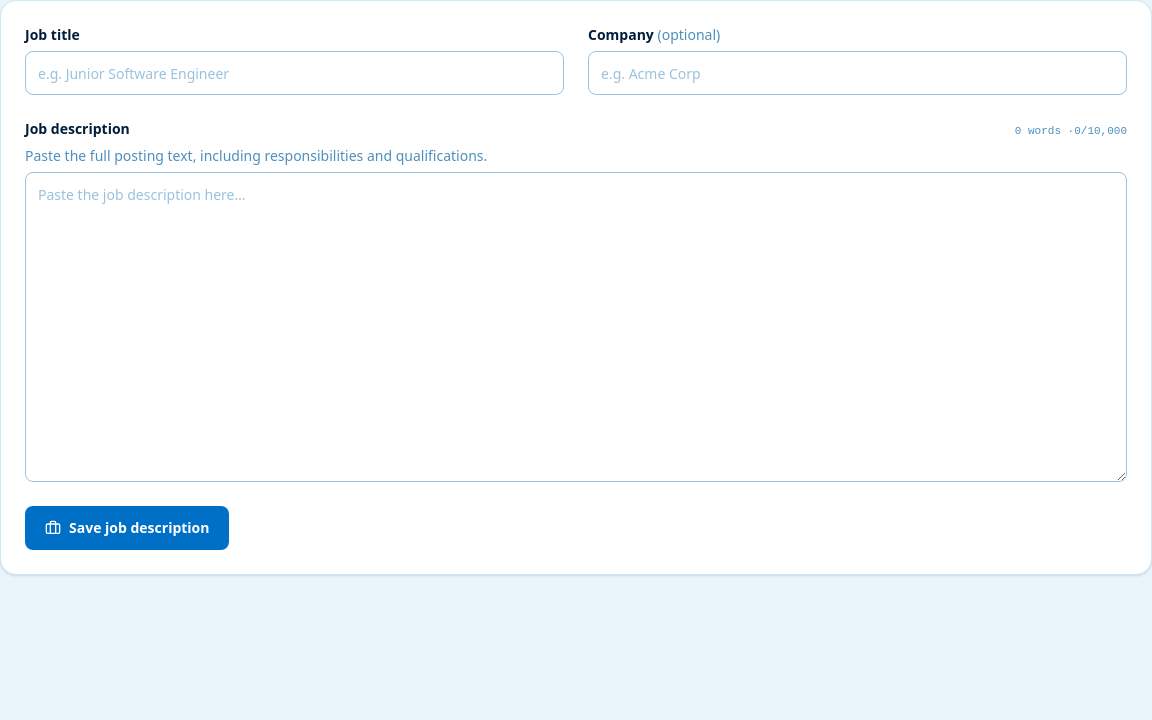
Test: TargetJobForm › explains how to fix a pasted link (Scenario 3)
Type "Junior Software Engineer" into the field labelled "Job title" at (294, 73), box [25, 51, 564, 95]
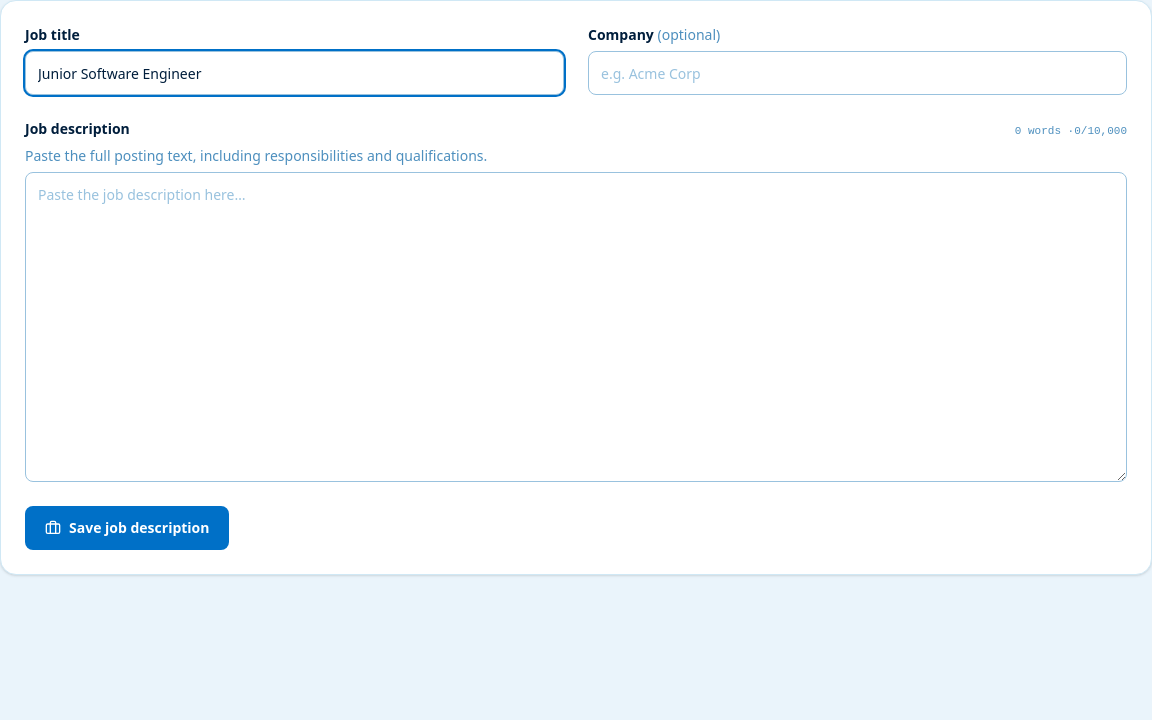
Type "Acme" into the field labelled "Company (optional)" at (858, 73), box [588, 51, 1127, 95]
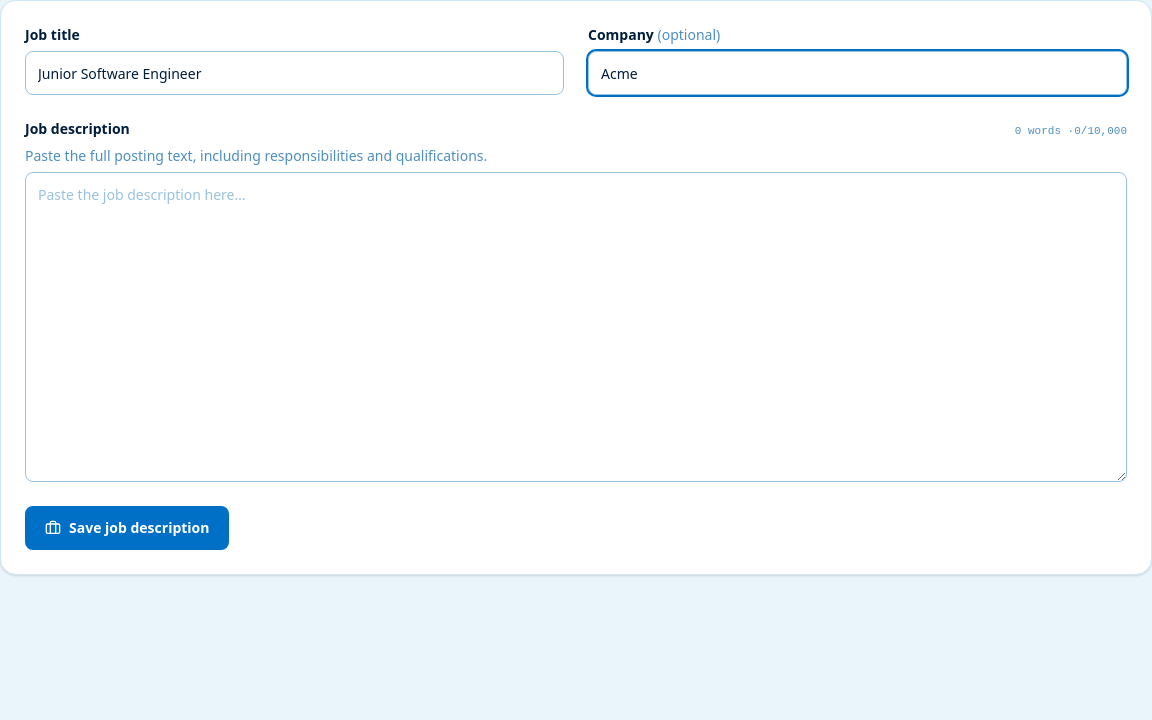
Click the text box labelled "Job description" at (576, 326), box [25, 172, 1127, 482]
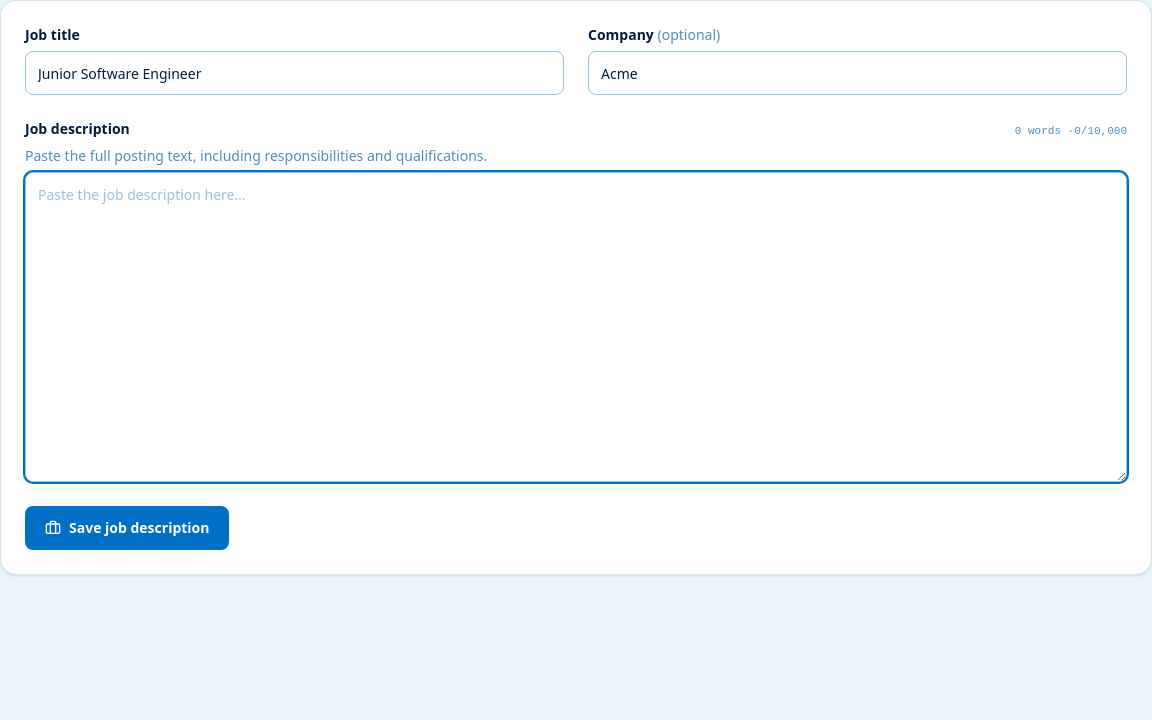
Type keys "https://careers.example.com/jobs/123"
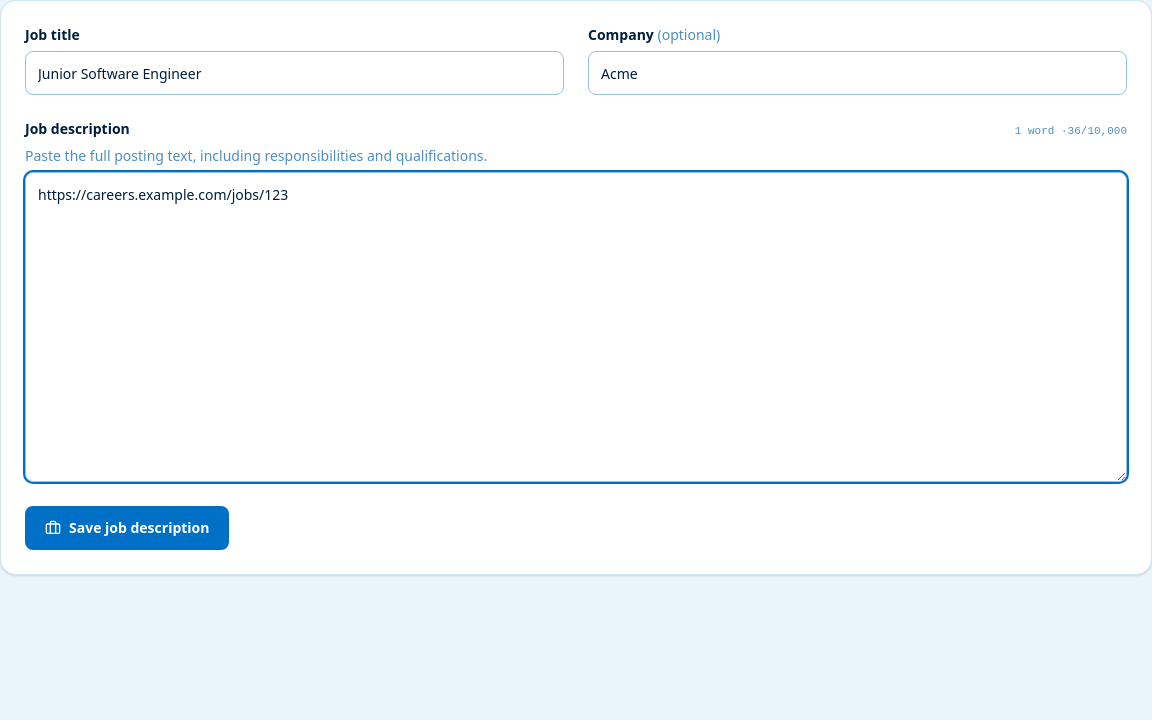
Click the button "Save job description" at (127, 528), box [25, 506, 230, 550]
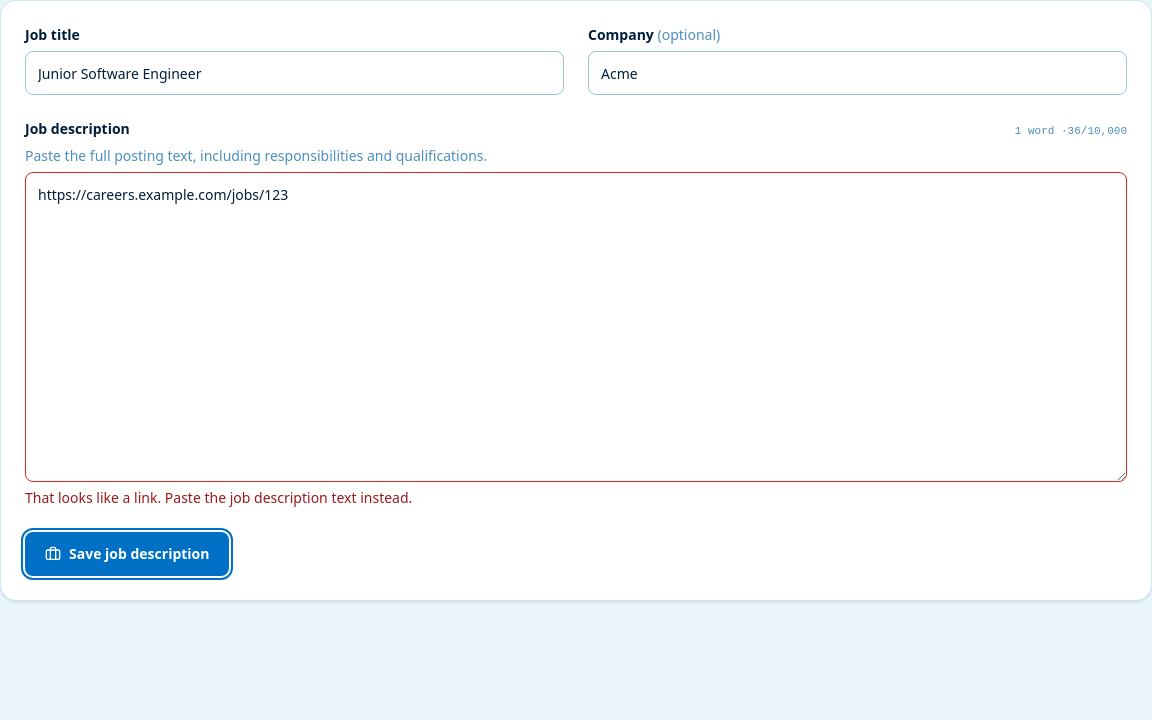
Expected: the text "That looks like a link. Paste the job description text instead." is shown, [25, 488, 412, 506]
